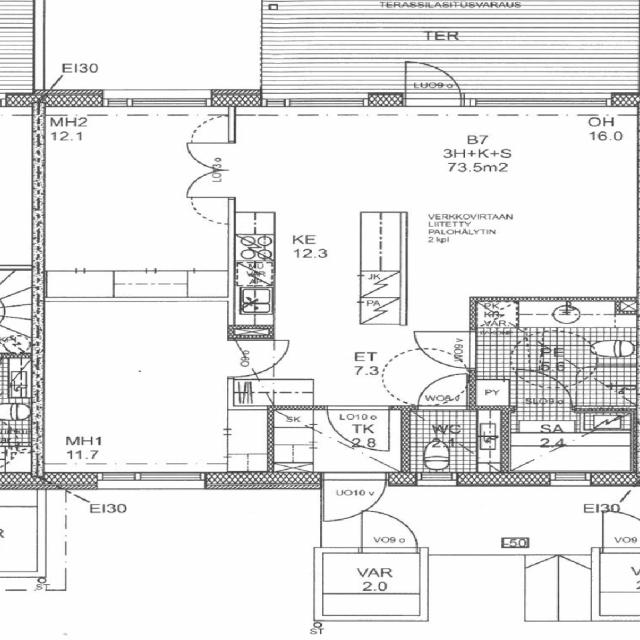door: (324, 472, 386, 527), (404, 55, 460, 107), (326, 405, 388, 451), (516, 368, 572, 412), (362, 510, 417, 553), (414, 331, 476, 368), (227, 340, 289, 377), (417, 372, 467, 410), (187, 142, 234, 170), (187, 170, 234, 197)
